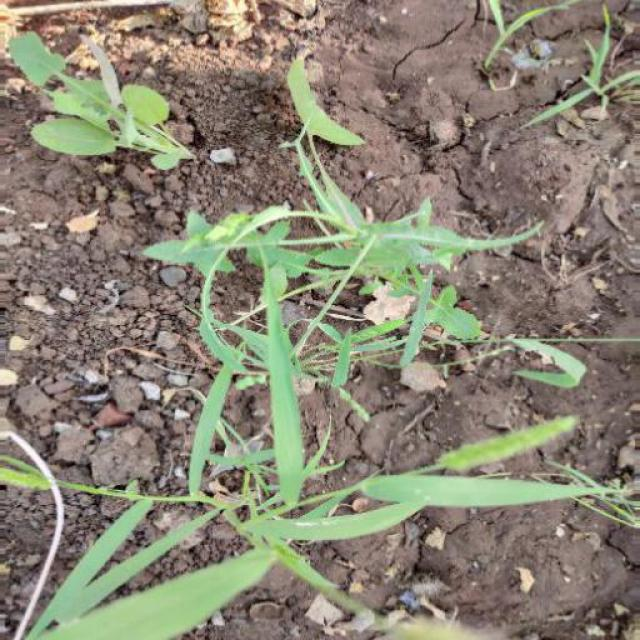weed: (84, 178, 590, 572)
